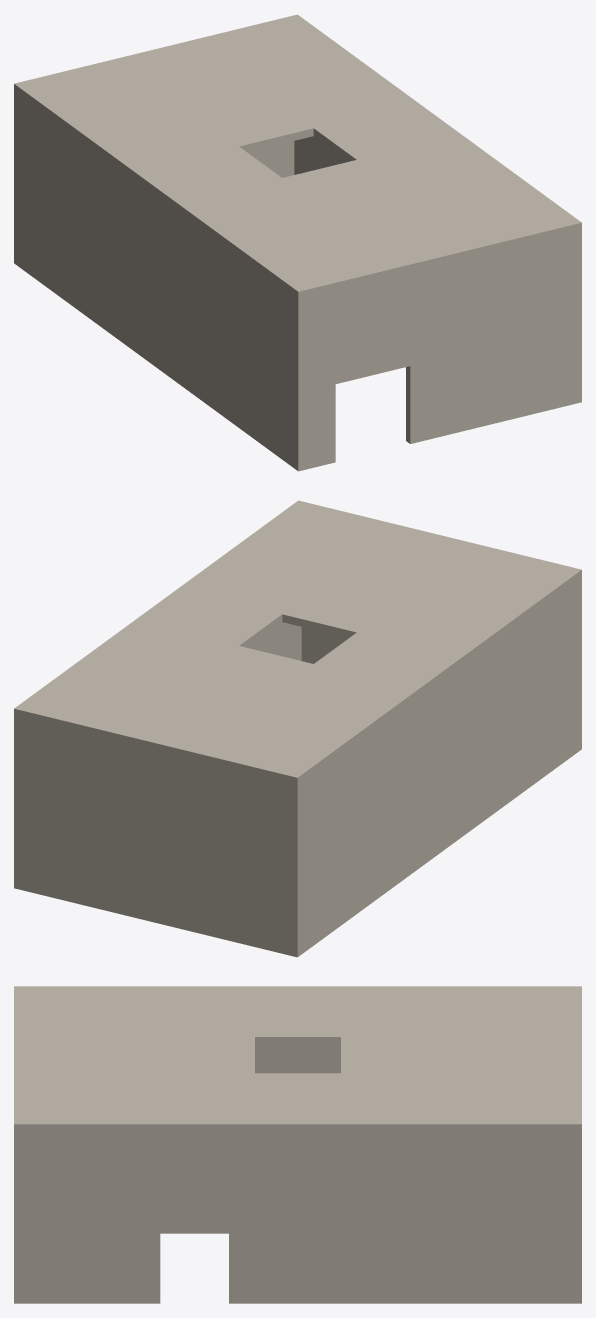
Rendered from gallery_rock.gltf.
The picture shows the model from 3 angles, top to bottom: view 1: azimuth 30°, elevation 25°; view 2: azimuth 150°, elevation 25°; view 3: azimuth 270°, elevation 25°; orthographic projection.
Parts seen in each view (by area): view 1: Gallery; view 2: Gallery; view 3: Gallery.
Part boxes in pixels (x1,y1,x2,y2): Gallery: (14,14,581,471); Gallery: (14,500,581,957); Gallery: (14,986,581,1303).
Bounding box in the file's own units: 19 × 11.5 × 33.
